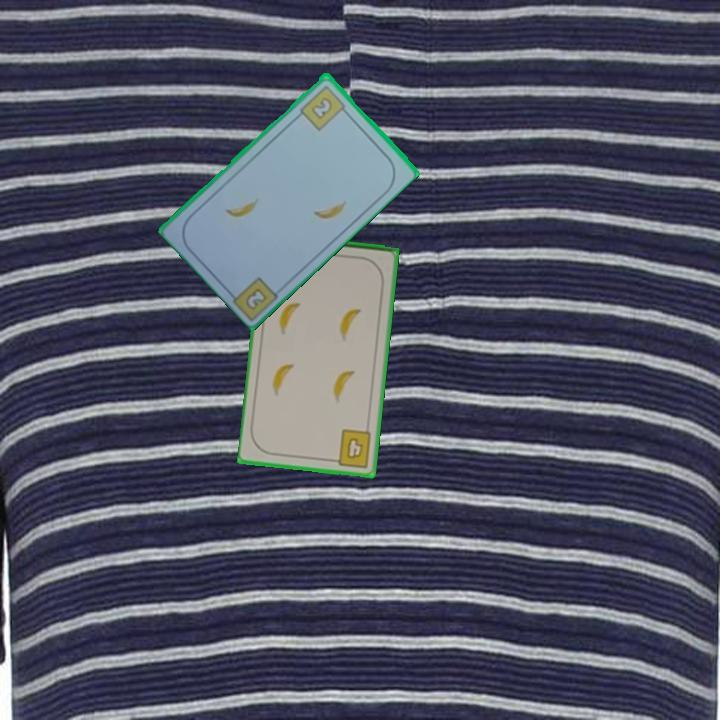2b: (297, 81, 351, 133), (242, 284, 270, 313)
4b: (328, 426, 375, 470)
